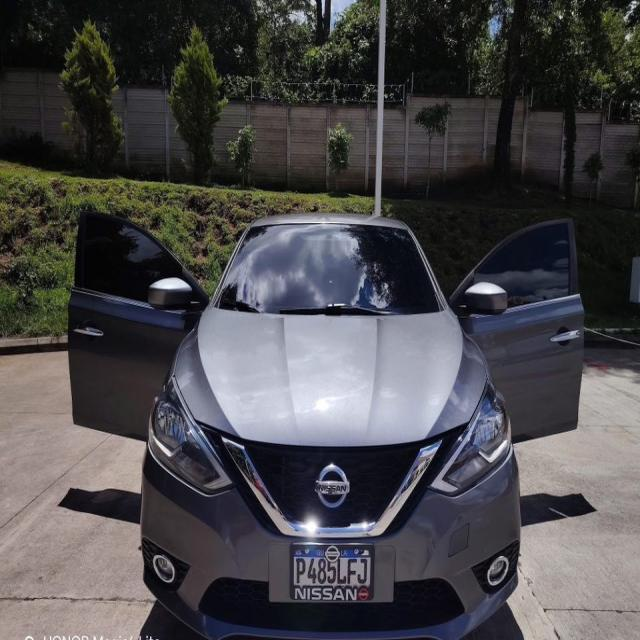Placas: (289, 540, 378, 608)
